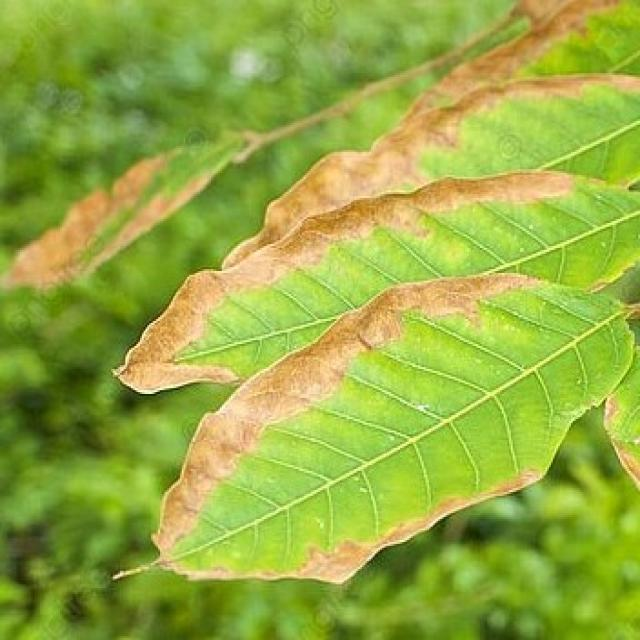Leaf Blight: (272, 2, 638, 282), (43, 383, 595, 539), (82, 281, 600, 360), (42, 115, 260, 264)
